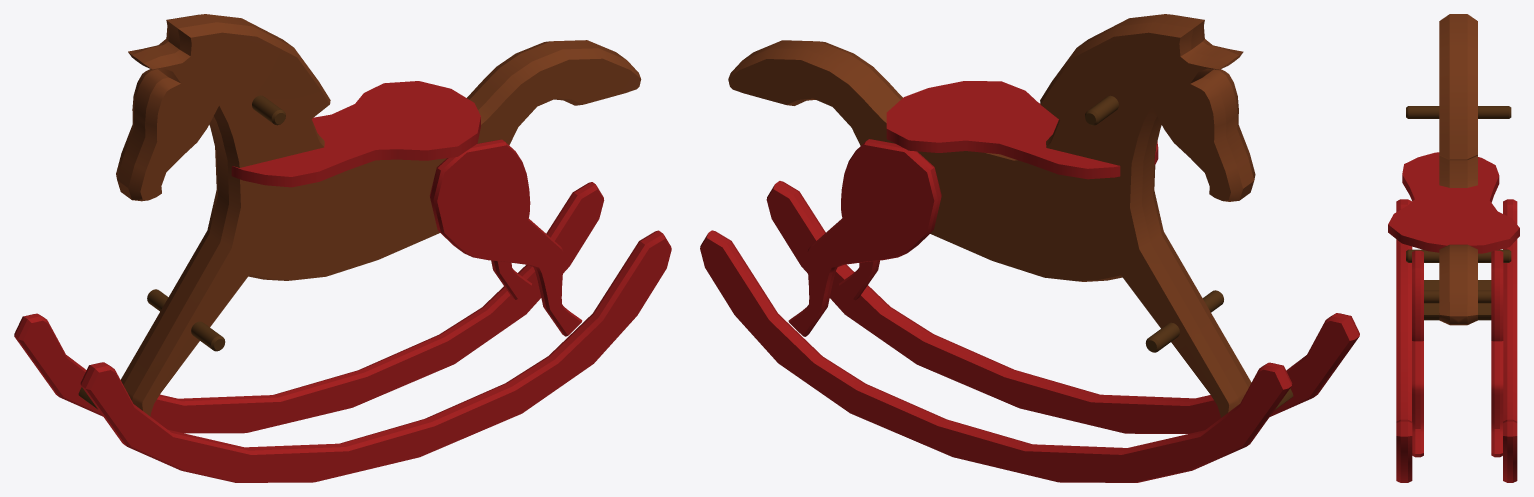
Rendered from Rocking Horse.FBX.
3 views of the same model, side by side, from view 1: azimuth 30°, elevation 25°; view 2: azimuth 150°, elevation 25°; view 3: azimuth 270°, elevation 25° (orthographic). The views are drawn at different scales.
Parts seen in each view (by area): view 1: Object016; view 2: Object016; view 3: Object016.
Boxes of the visible parts, box(x1,y1,x2,y2) form: Object016: box(14, 14, 671, 482); Object016: box(700, 14, 1359, 482); Object016: box(1388, 14, 1519, 482).
Size of the model in its own units: 69.13 by 51.55 by 17.03.
